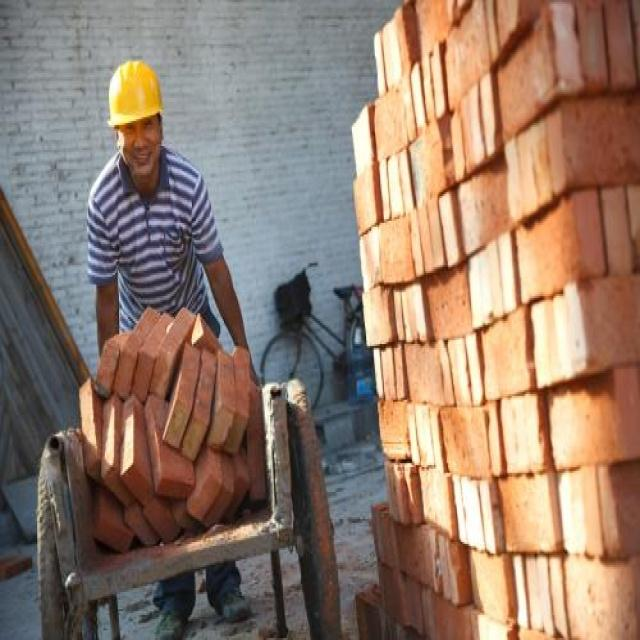helmet: (104, 62, 169, 245)
